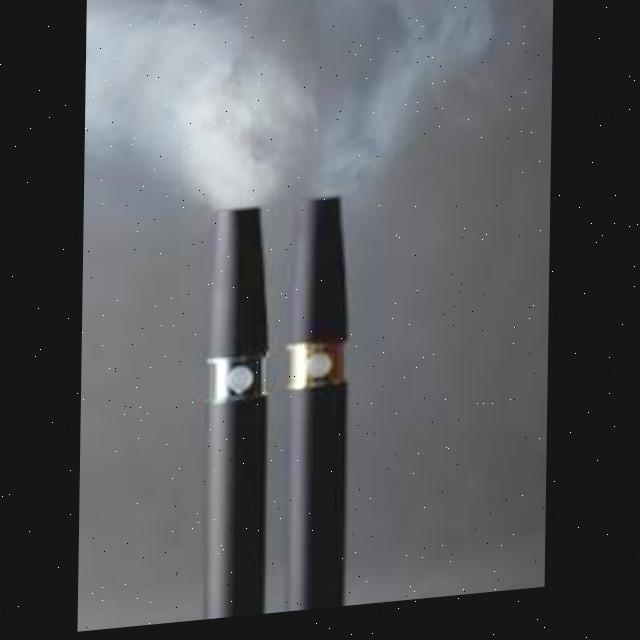vape: (289, 195, 355, 617), (211, 207, 271, 623)
